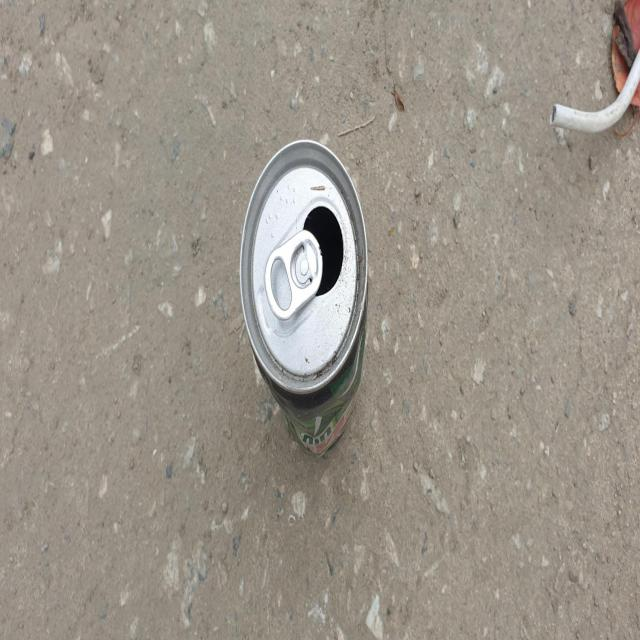can: (240, 138, 368, 455)
